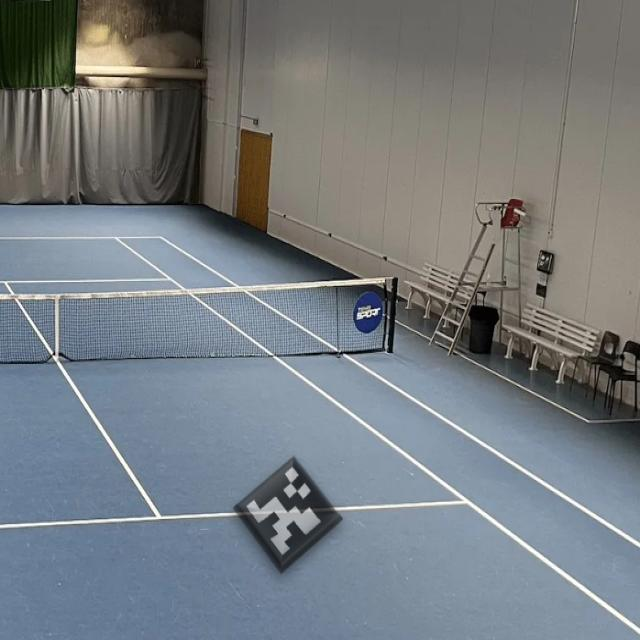marker: (223, 445, 354, 581)
